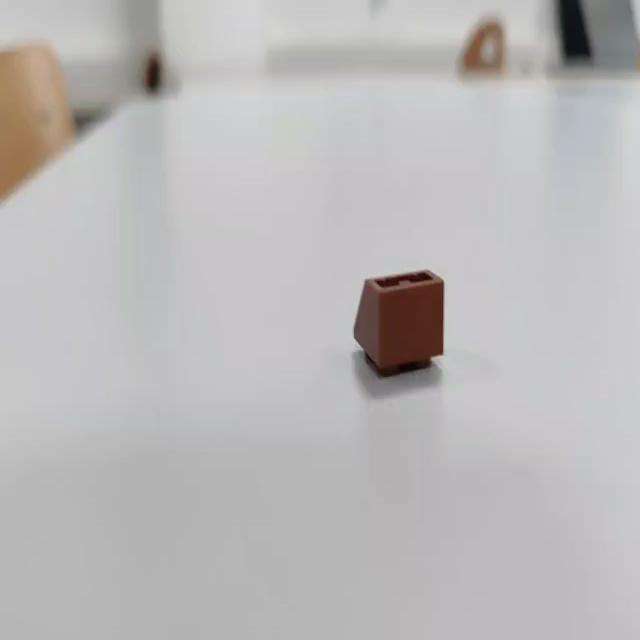X2x2x1: (352, 267, 445, 375)
